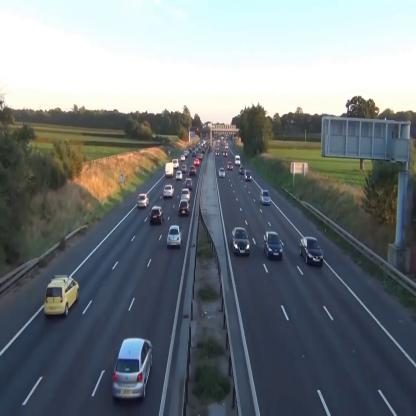car: (112, 336, 153, 400), (44, 275, 80, 318), (300, 237, 323, 267), (264, 231, 282, 261), (232, 227, 250, 255), (167, 225, 182, 248), (150, 206, 164, 224), (137, 193, 149, 208), (178, 200, 190, 215), (260, 190, 271, 206), (164, 185, 174, 197), (181, 188, 190, 201), (184, 178, 192, 190), (175, 170, 183, 180), (244, 170, 252, 180), (190, 165, 196, 176), (219, 168, 225, 178), (181, 164, 187, 173)
lorry: (164, 163, 174, 177), (172, 158, 179, 169)
